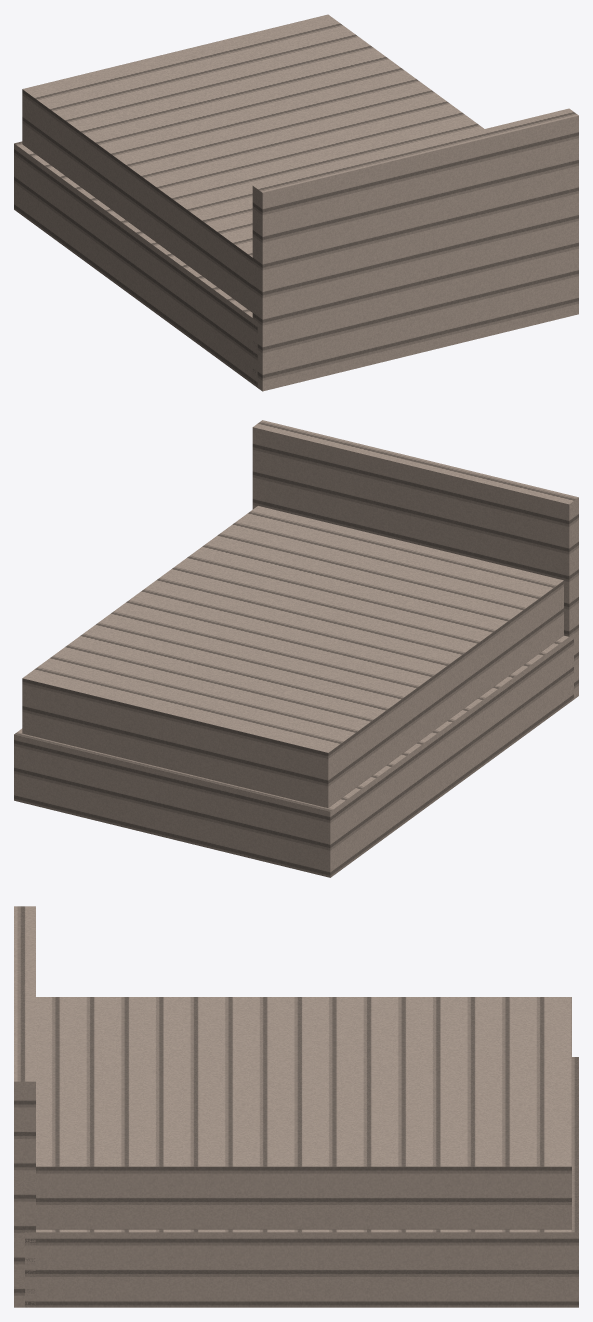
File: bed_frame.glb
3 views of the same model, one above another, from view 1: azimuth 30°, elevation 25°; view 2: azimuth 150°, elevation 25°; view 3: azimuth 270°, elevation 25° (orthographic). The views are drawn at different scales.
Parts seen in each view (by area): view 1: bed_frame-col; view 2: bed_frame-col; view 3: bed_frame-col.
Part boxes in pixels (bbox=[...]): bed_frame-col: bbox=[14, 14, 578, 391]; bed_frame-col: bbox=[14, 420, 578, 877]; bed_frame-col: bbox=[14, 906, 578, 1307].
Bounding box in the file's own units: 1.5 × 0.9 × 2.04.
1 material, 1 textured.
